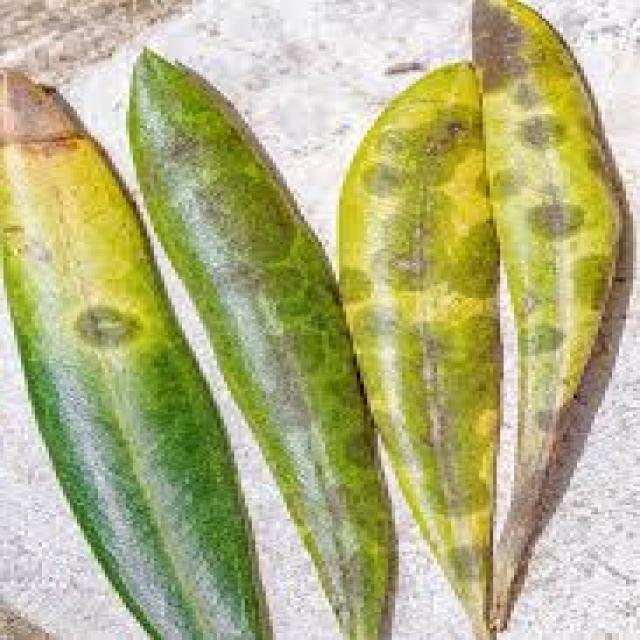OlivePeacockSpot: (0, 72, 277, 638), (130, 49, 382, 638), (339, 63, 500, 586), (493, 9, 612, 550)
